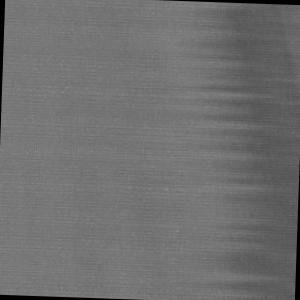Wrinkle: (181, 2, 300, 300)
